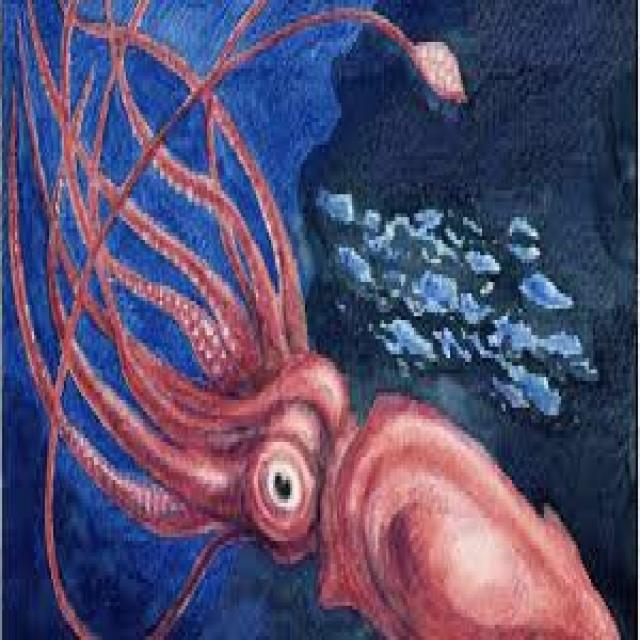squid: (6, 0, 619, 636)
